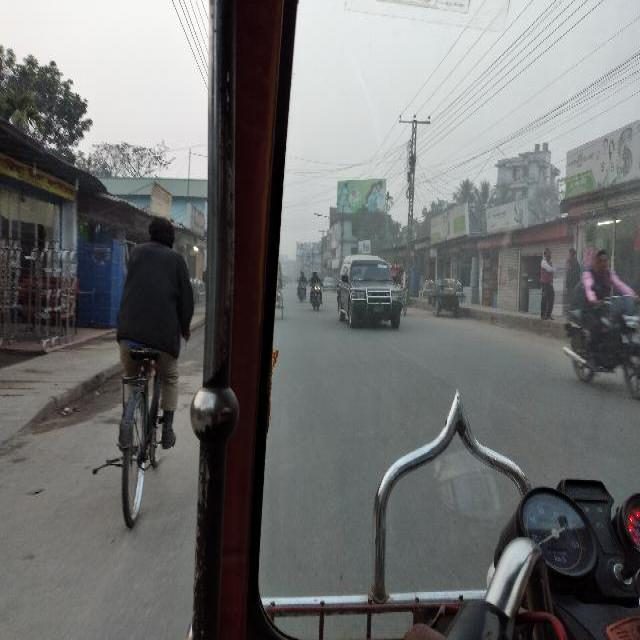bike: (100, 332, 182, 534), (558, 288, 640, 405), (310, 271, 324, 312), (296, 270, 308, 303)
vehicle: (337, 254, 403, 329), (387, 263, 409, 323), (322, 278, 336, 292)
